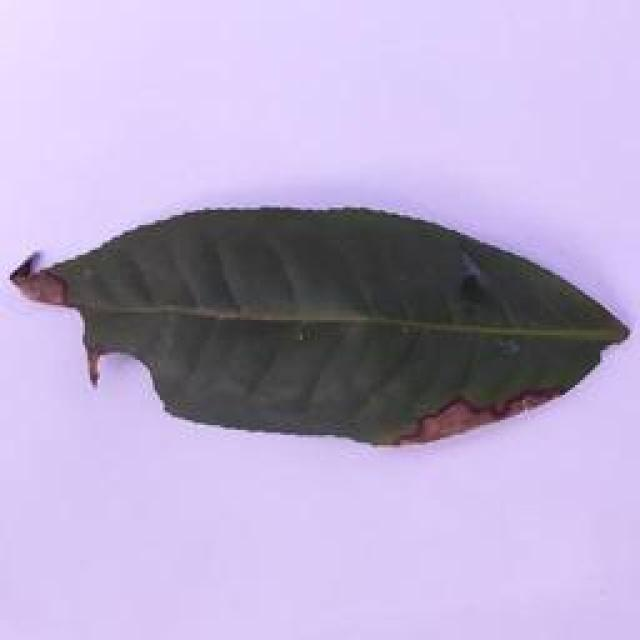Gray Blight: (3, 193, 628, 459)
